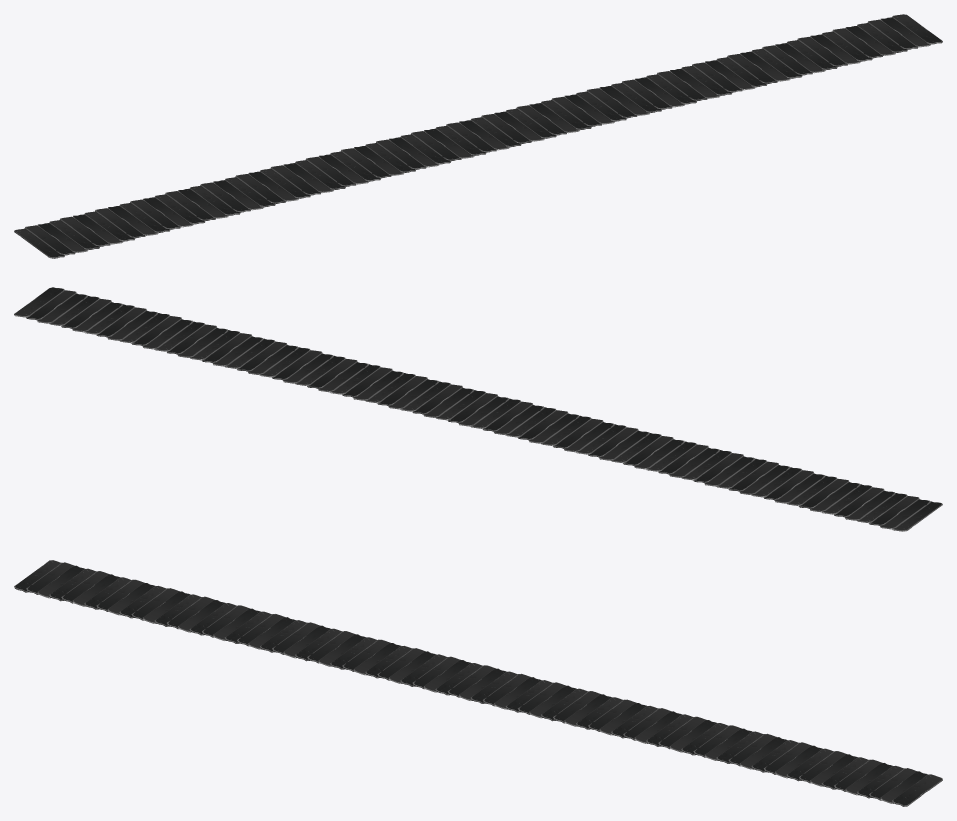
Rendered from conveyor.fbx.
The picture shows the model from 3 angles, top to bottom: view 1: azimuth 30°, elevation 25°; view 2: azimuth 150°, elevation 25°; view 3: azimuth 330°, elevation 25°; orthographic projection.
Visible parts, largest first — view 1: pal1.001; view 2: pal1.001; view 3: pal1.001.
Part boxes in pixels (box(x1,y1,x2,y2)): pal1.001: box(14, 14, 942, 258); pal1.001: box(14, 287, 942, 531); pal1.001: box(14, 560, 942, 806).
Bounding box in the file's own units: 2373 × 6.96 × 181.
